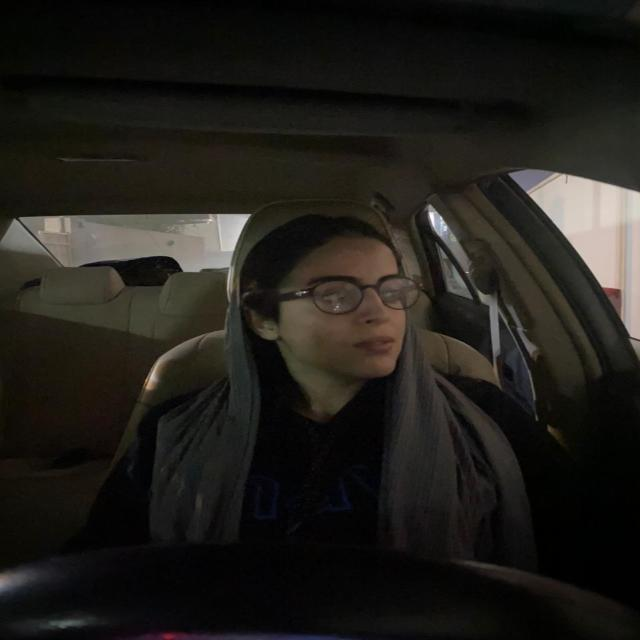LeftRight: (230, 213, 421, 380)
